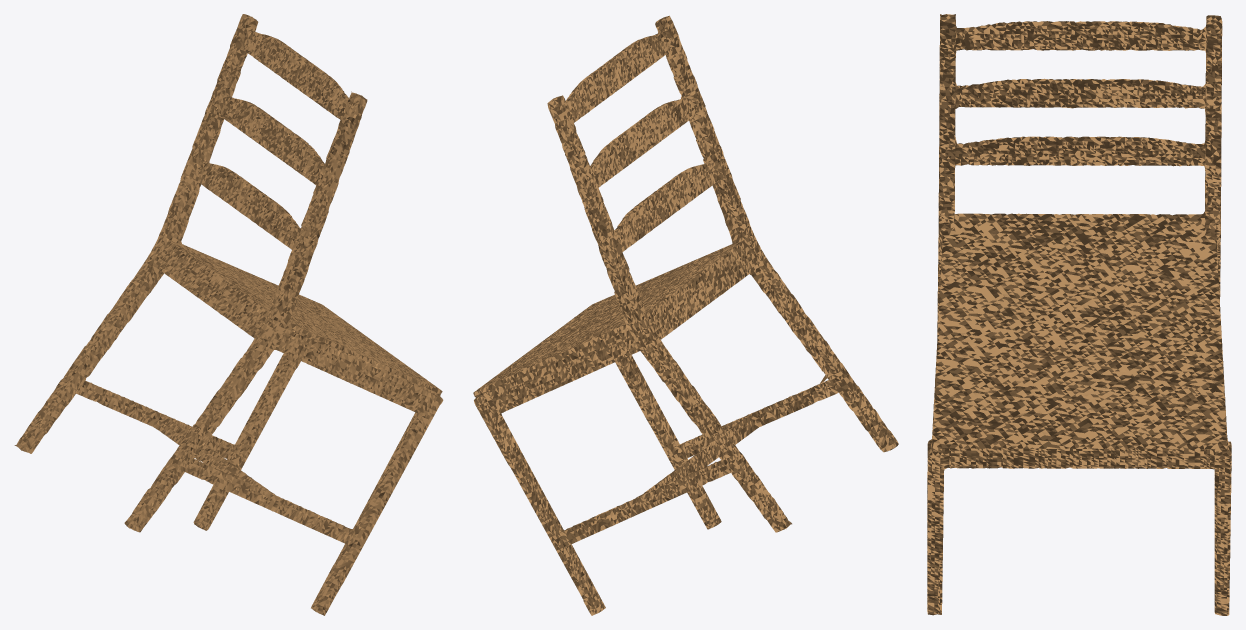
File: h2_03_chair_overhead_props.glb
3 renders of one model, left to right at view 1: azimuth 30°, elevation 25°; view 2: azimuth 150°, elevation 25°; view 3: azimuth 270°, elevation 25°, orthographic. The views are drawn at different scales.
Visible parts, largest first — view 1: o00; view 2: o00; view 3: o00.
Part boxes in pixels (left/top/right/bottom): o00: left=14, top=14, right=443, bottom=615; o00: left=473, top=15, right=898, bottom=615; o00: left=927, top=14, right=1231, bottom=615.
Bounding box in the file's own units: 0.6421 × 1 × 0.4423.
